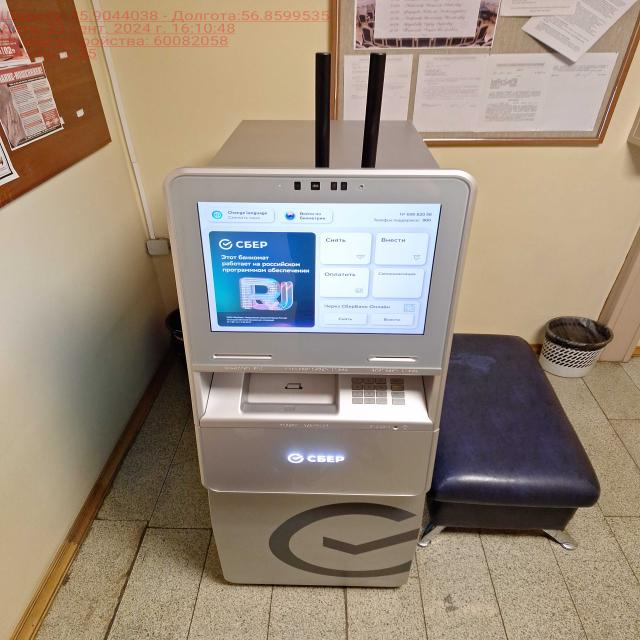bank: (159, 119, 475, 595)
